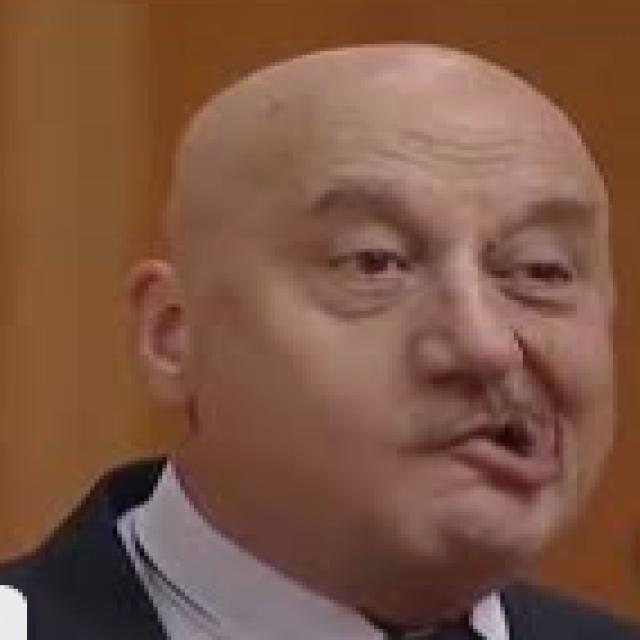stroke_face: (148, 77, 630, 573)
